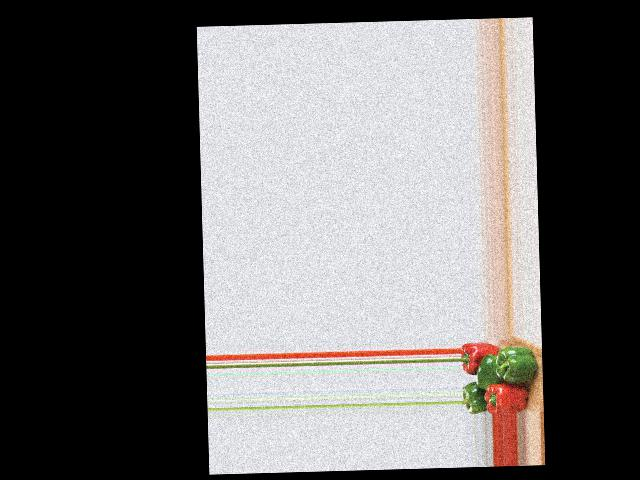bell_pepper: (485, 380, 532, 413)
